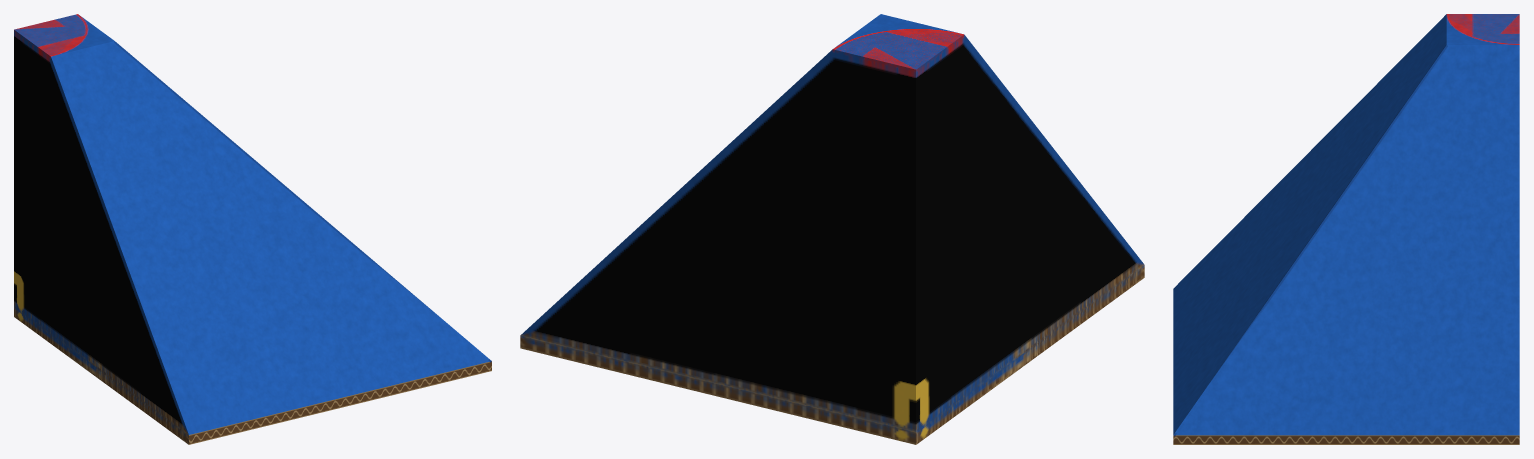
Rendered from 40-roof-front-right.fbx.
3 renders of one model, left to right at view 1: azimuth 30°, elevation 25°; view 2: azimuth 150°, elevation 25°; view 3: azimuth 270°, elevation 25°, orthographic. The views are drawn at different scales.
Visible parts, largest first — view 1: roof-front-right; view 2: roof-front-right; view 3: roof-front-right.
Part boxes in pixels (x1,y1,x2,y2): roof-front-right: (14, 14, 491, 444); roof-front-right: (520, 14, 1144, 444); roof-front-right: (1173, 14, 1519, 444).
Size of the model in its own units: 6400 by 5800 by 6400.
1 material, 1 textured.
